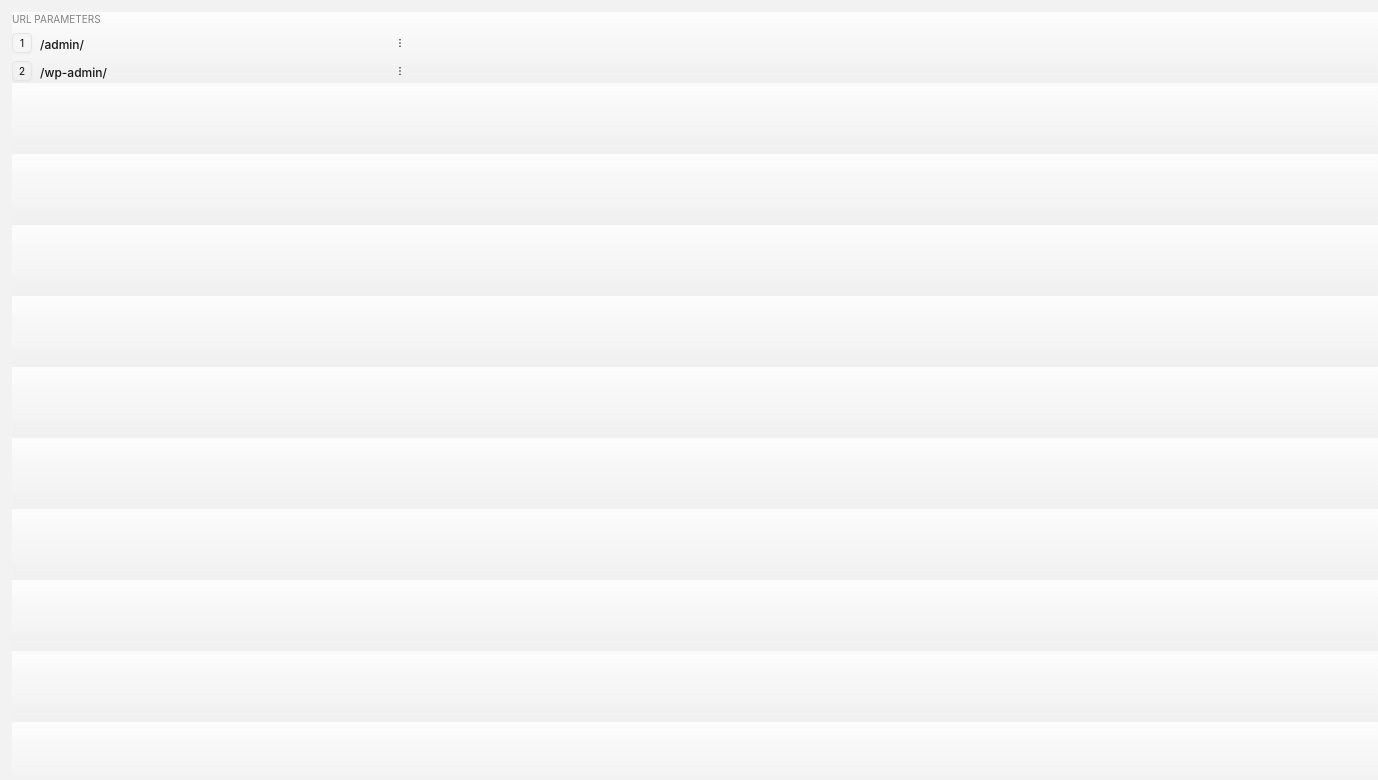
ParamsList › shows and dismisses the keyboard-shortcut warning
The image size is (1378, 780).
Step 1. Type keys "9"
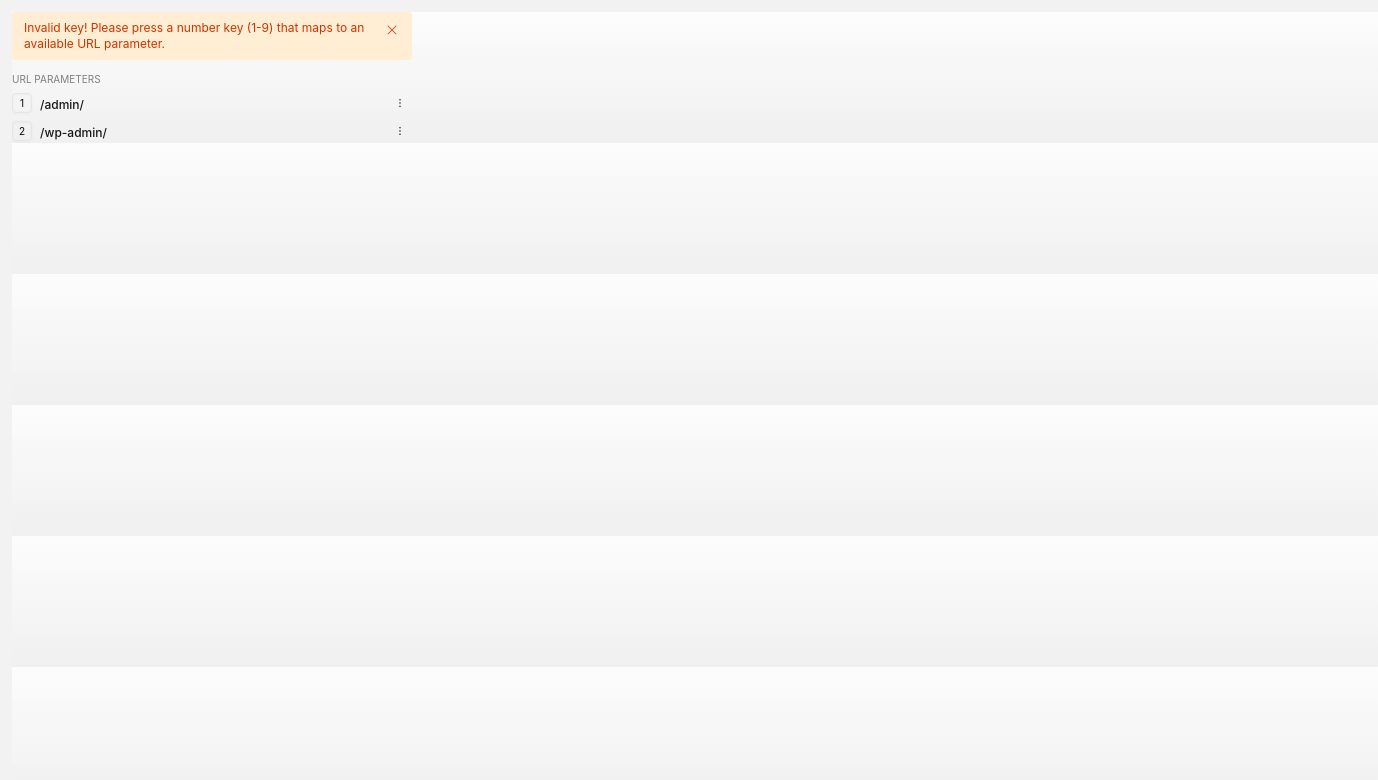
Step 2. Click the button named "Close warning" → [392, 30], box x1=383 y1=20 x2=400 y2=40
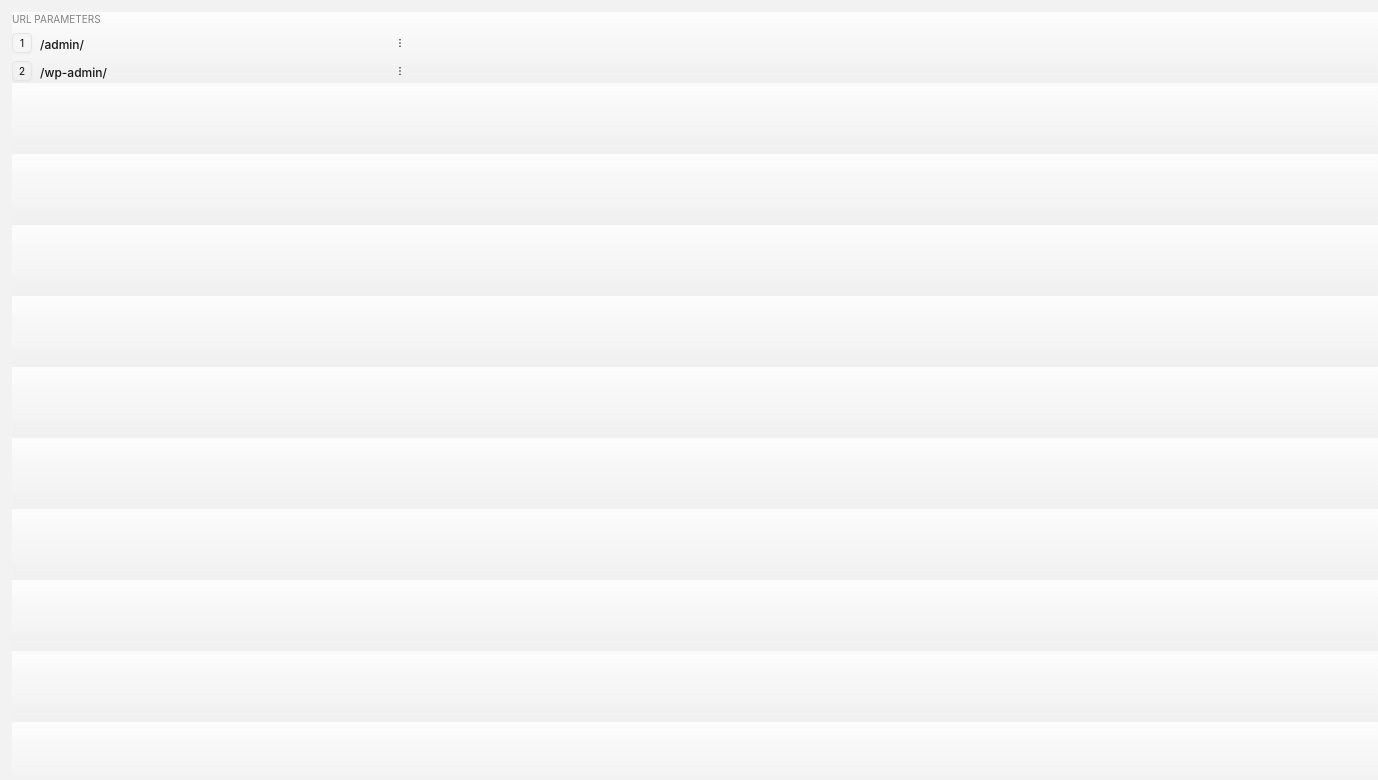
Expected: the text "Invalid key" is gone
